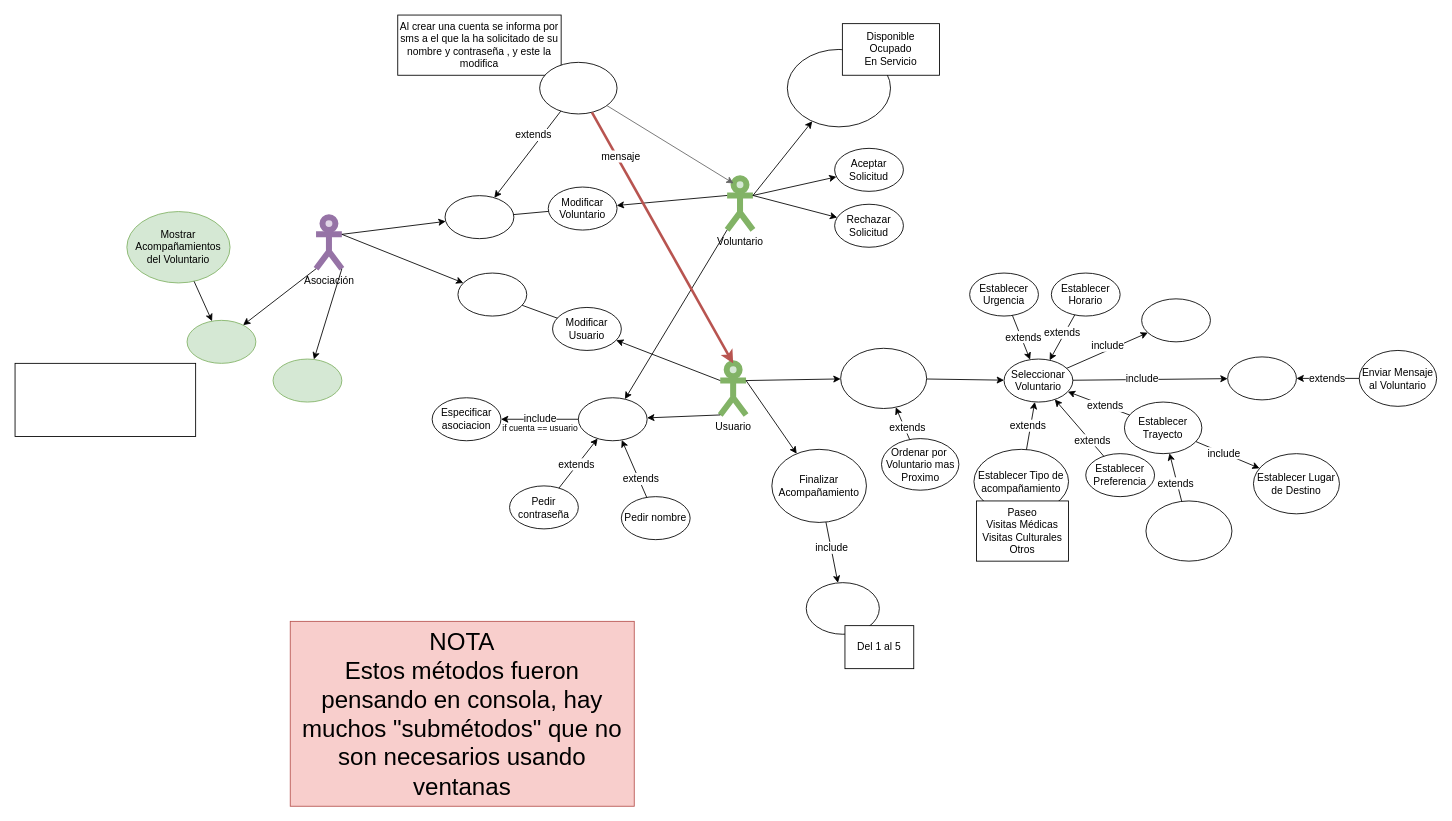
Image size: 1452x821. Some labels were removed from this diagram. Here are the shapes that lost their labels. From the top down, the centre of each, then its label:
At [578,87]: "Informar a demandante de la cuenta".
At [838,88]: "Cambiar estado".
At [479,217]: "Crear Voluntario".
At [492,294]: "Crear Usuario".
At [1175,320]: "Cancelar Seleccion".
At [221,341]: "Mostrar Voluntarios".
At [307,380]: "Mostrar Usuarios".
At [883,377]: "Mostrar Voluntarios Disponibles".
At [1261,378]: "Solicitar Voluntario".
At [105,399]: "En estos verdes hay que sustituir los souts por paint cuando esten las ventanas".
At [612,419]: "Registrarse".
At [1188,530]: "Establecer Lugar de Recogida".
At [842,608]: "Calificar Servicio".
